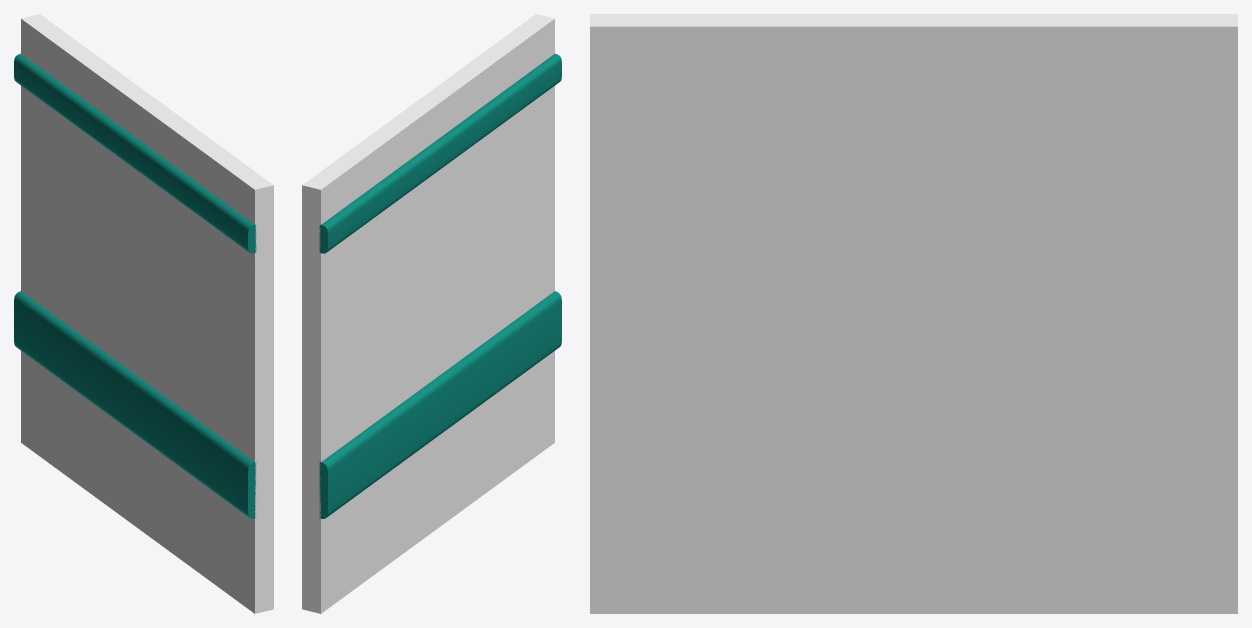
Rendered from Pared.fbx.
3 renders of one model, left to right at view 1: azimuth 30°, elevation 25°; view 2: azimuth 150°, elevation 25°; view 3: azimuth 270°, elevation 25°, orthographic. The views are drawn at different scales.
Visible parts, largest first — view 1: Box001, Box002, Box003; view 2: Box001, Box002, Box003; view 3: Box001.
Boxes of the visible parts, <box> form: Box001: <box>21,14,273,613</box>; Box002: <box>14,291,256,518</box>; Box003: <box>14,53,256,253</box>; Box001: <box>302,14,554,613</box>; Box002: <box>319,291,561,518</box>; Box003: <box>319,53,561,253</box>; Box001: <box>590,14,1237,613</box>.
Bounding box in the file's own units: 9.54 × 150 × 150.
Materials: 2 (2 with a texture image).
